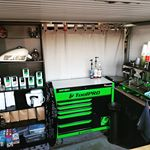other: (85, 53, 105, 81)
